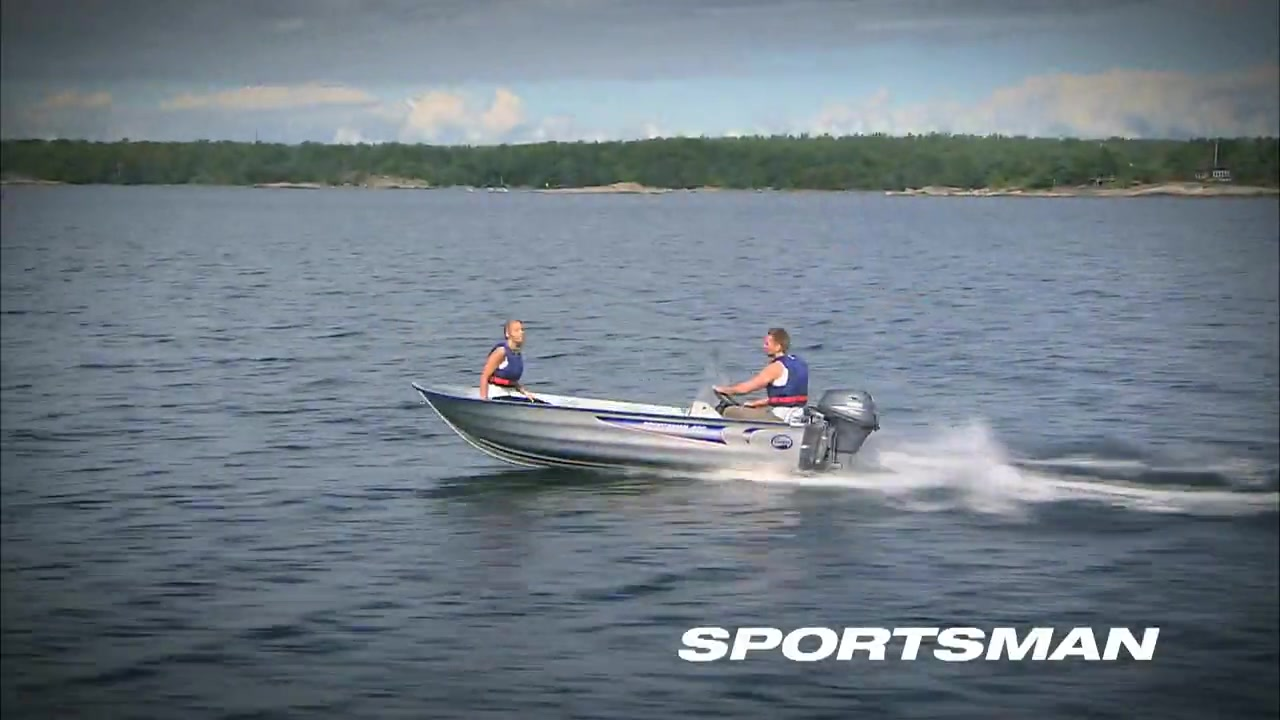boat: (410, 356, 882, 483)
